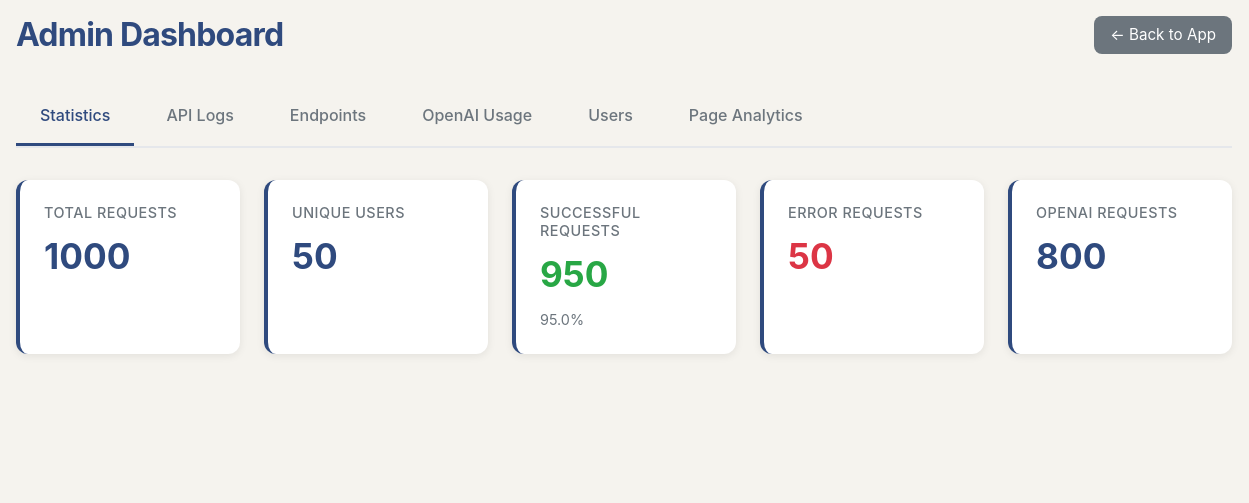
Test: AdminDashboard.vue › API Logs Tab › switches to logs tab and displays logs
The width and height of the screenshot is (1249, 503).
What coordinates should you click on to do the following:
click the button "API Logs"
I would click on:
 (200, 116)
Its box is [142, 87, 258, 146].
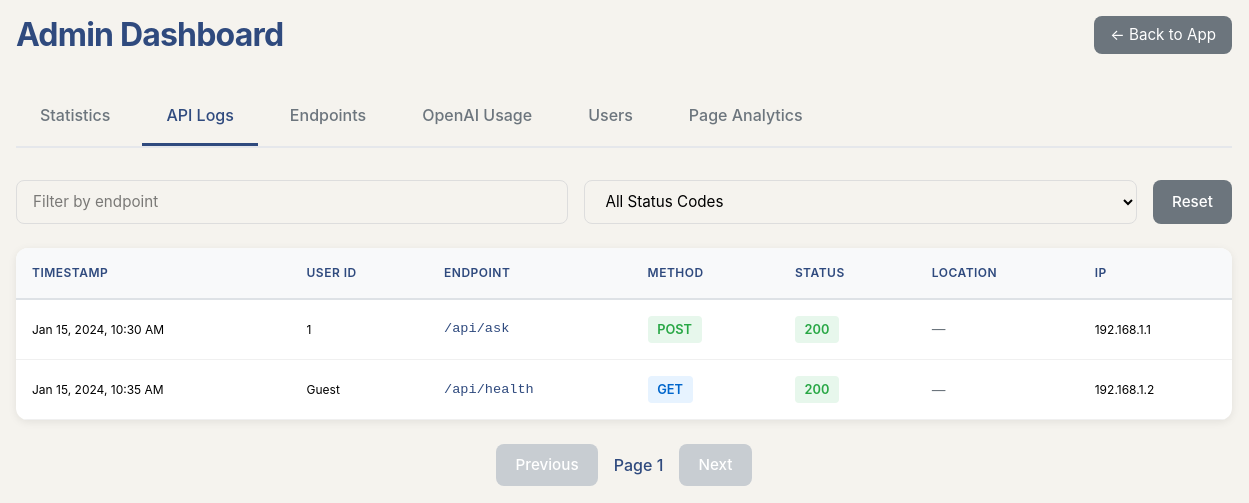
expect the text "Guest" is shown: met, box [290, 360, 428, 420]
expect the text "/api/ask" is shown: met, box [428, 299, 632, 360]
expect the text "POST" is shown: met, box [648, 316, 702, 343]
